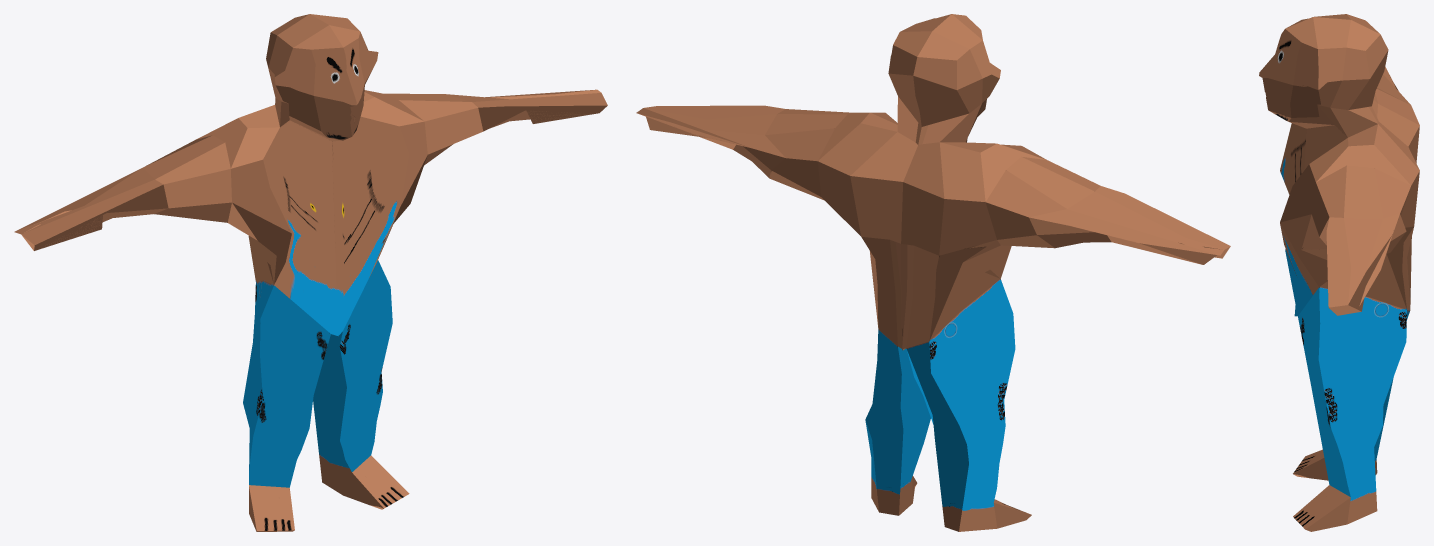
File: avatar2.obj
3 renders of one model, left to right at view 1: azimuth 30°, elevation 25°; view 2: azimuth 150°, elevation 25°; view 3: azimuth 270°, elevation 25°, orthographic.
Parts seen in each view (by area): view 1: Cube; view 2: Cube; view 3: Cube.
Part boxes in pixels (x1,y1,x2,y2): Cube: (14,14,607,531); Cube: (636,14,1230,531); Cube: (1259,14,1419,531).
Bounding box in the file's own units: 10.06 × 8.07 × 2.44.
